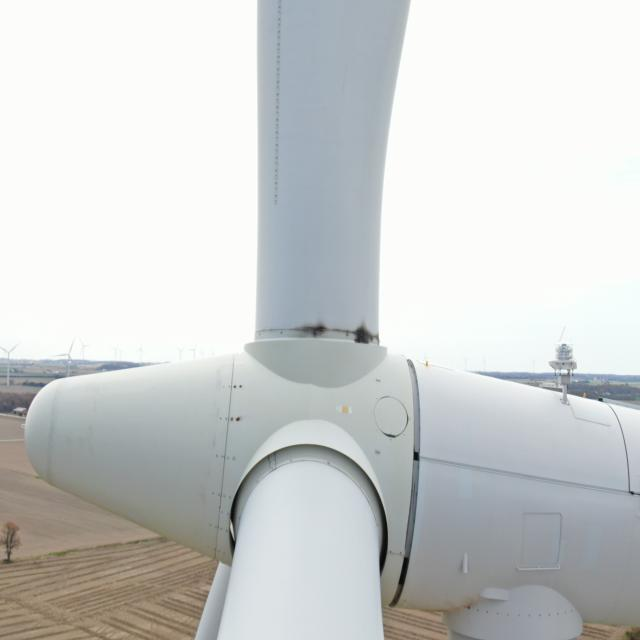damage: (297, 306, 331, 347), (350, 308, 375, 358)
